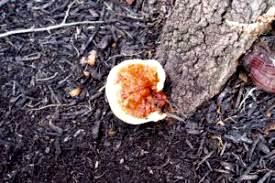Ganoderma - Fruit Body: (104, 57, 168, 126), (244, 36, 275, 95)
